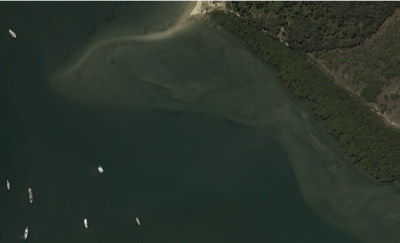boat: (20, 227, 29, 240), (28, 187, 33, 202), (9, 29, 17, 38), (135, 217, 141, 227), (84, 218, 88, 229), (98, 166, 104, 173), (6, 182, 10, 190), (7, 180, 9, 182), (26, 226, 29, 227), (99, 164, 100, 166)
